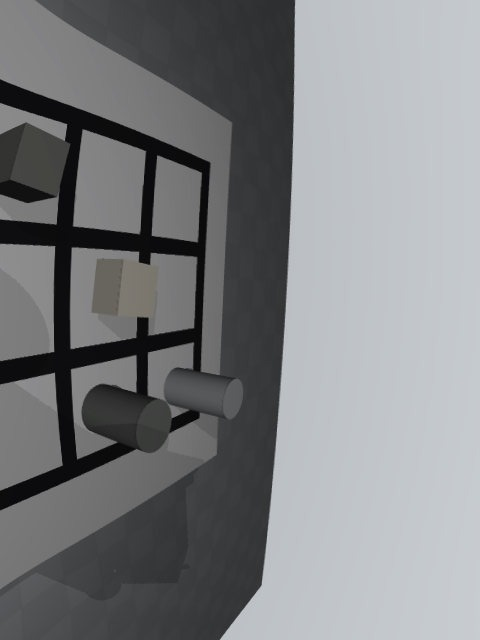can: (164, 368, 243, 420)
cube: (0, 122, 71, 203)
cylinder: (81, 384, 172, 453)
foam: (92, 259, 159, 318)
